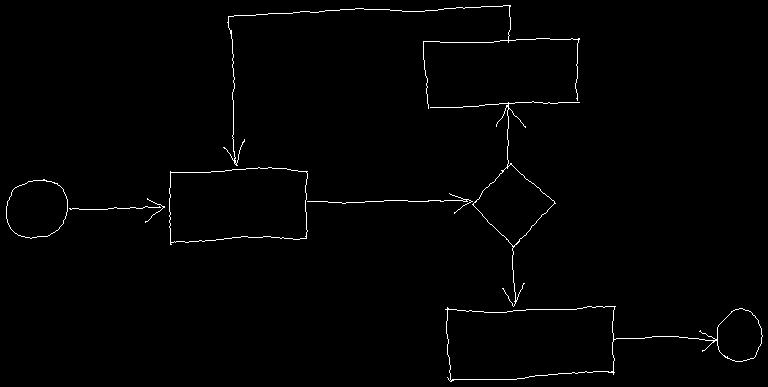arrow: (223, 5, 510, 165), (307, 193, 472, 213), (69, 198, 164, 222), (614, 330, 716, 351), (496, 102, 525, 168), (502, 245, 524, 306)
connection: (6, 179, 67, 238), (717, 308, 762, 361)
decision: (472, 163, 555, 247)
process: (445, 306, 615, 381), (423, 38, 579, 108), (169, 167, 307, 244)
